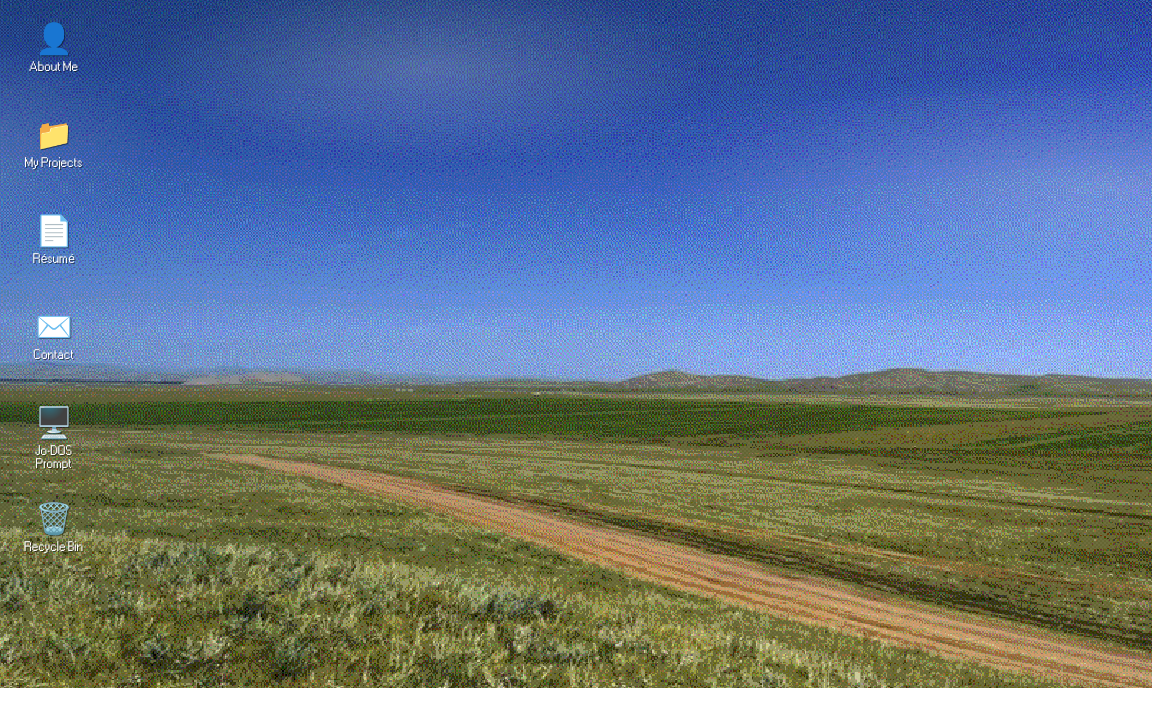
Test: Desktop › double-clicking an icon opens its window
Step 1. Double-click the icon "About Me" → (54, 66), box [30,60,79,73]
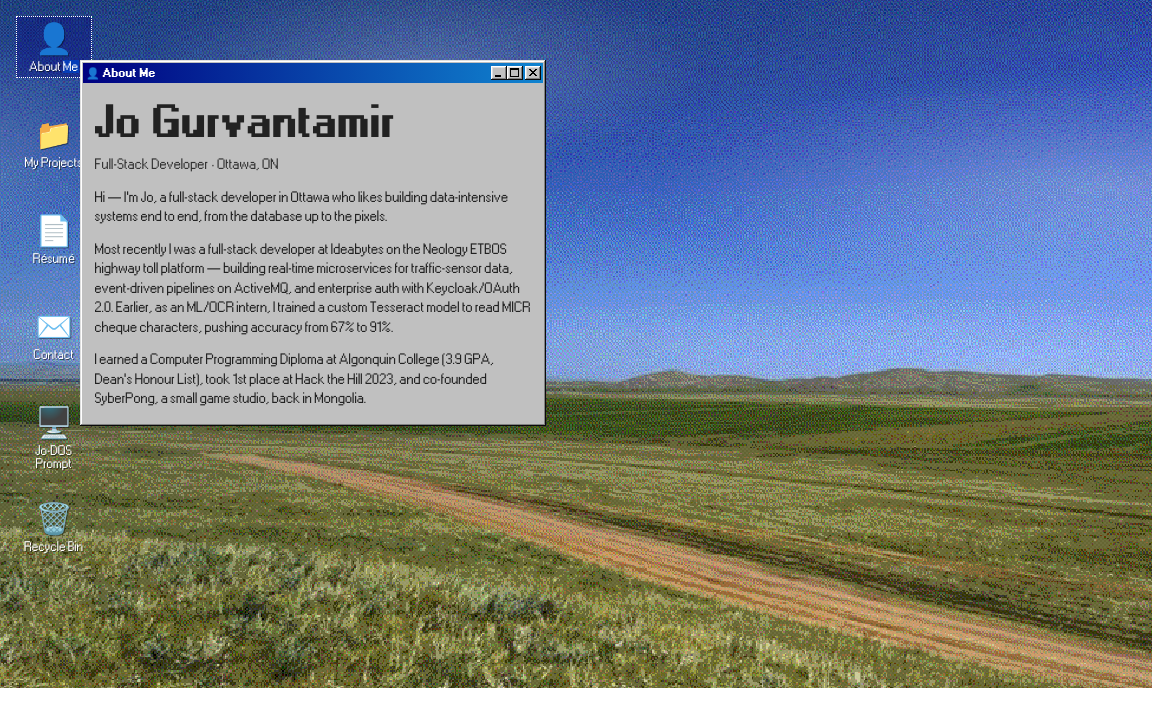
Now the dialog "About Me" is shown, box [80,60,546,426]
